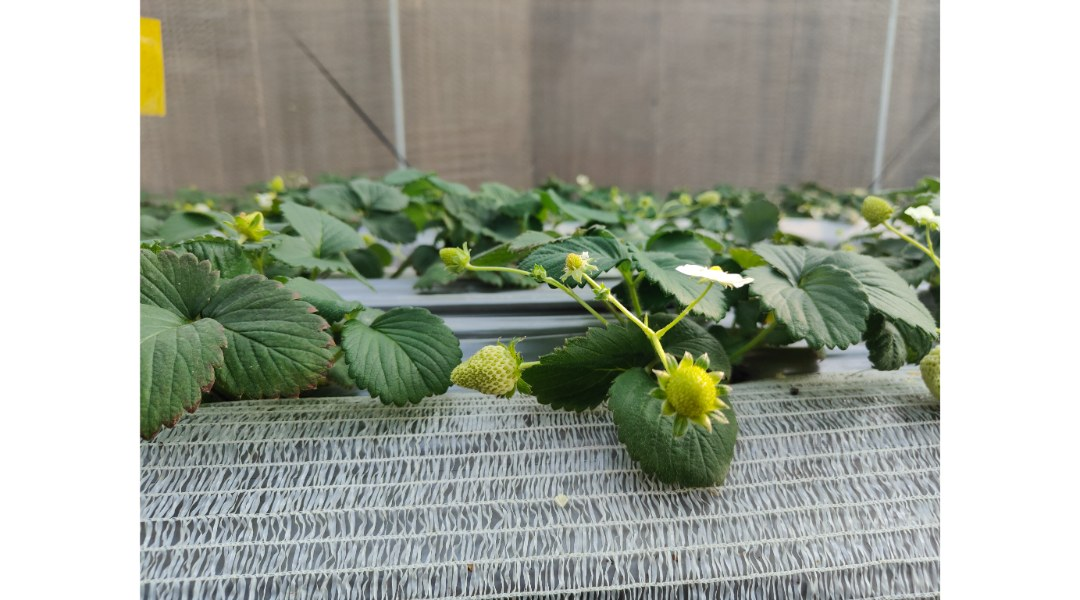berry: (647, 346, 740, 440), (440, 332, 528, 400), (847, 188, 897, 220), (230, 213, 283, 242), (431, 242, 482, 271), (559, 251, 591, 279), (525, 261, 549, 281)
flower: (663, 256, 764, 297), (907, 195, 949, 228)
strain: (660, 283, 709, 339), (614, 298, 649, 329), (568, 294, 603, 324), (465, 261, 528, 276)
